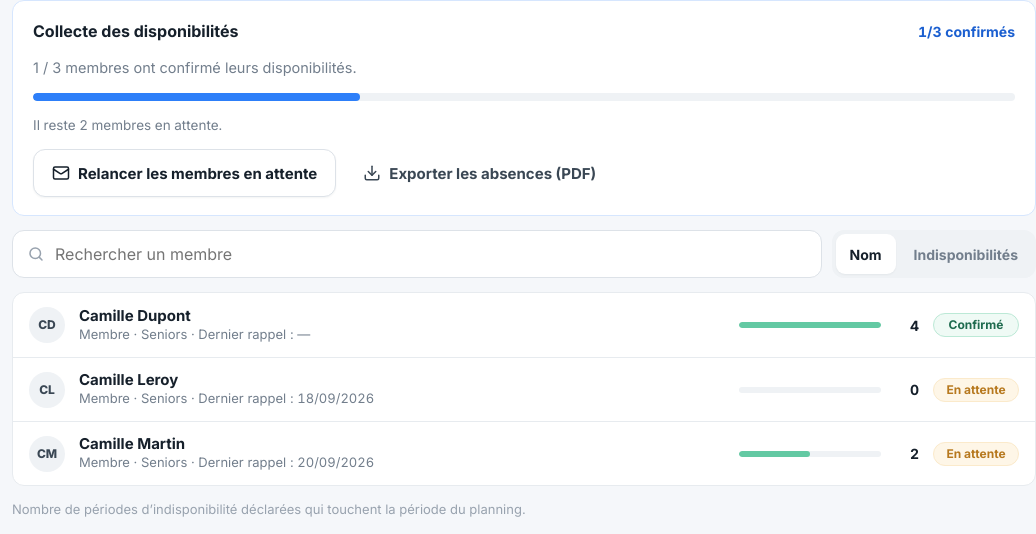
CollectionStatusPanel — search and sort › filters members by name, case-insensitively, and says when nobody matches
In the field labelled "Rechercher un membre": x=430, y=254 [53,231,806,277], type "mar"
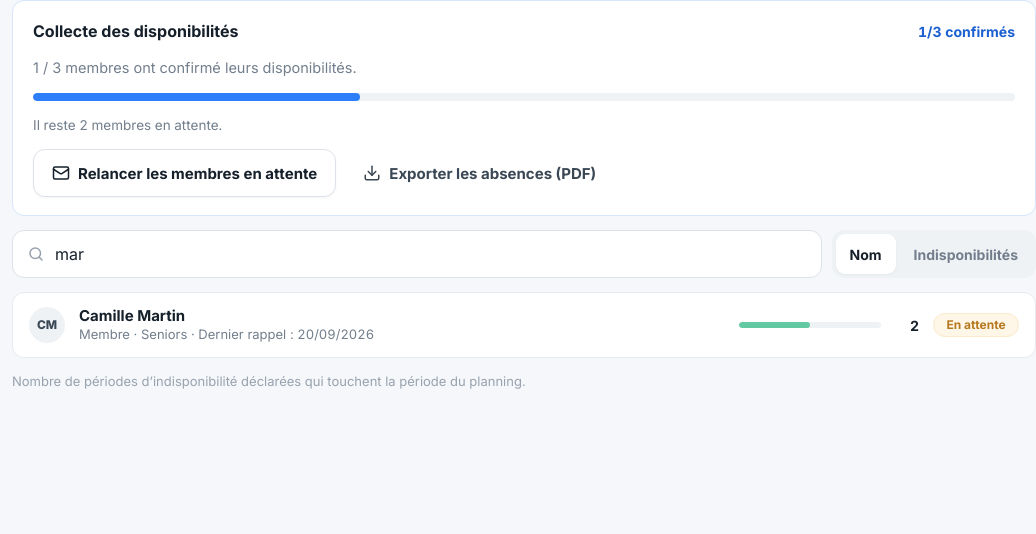
Replace the text in the field named "Rechercher un membre" with "zzz": x=430, y=254 [53,231,806,277]
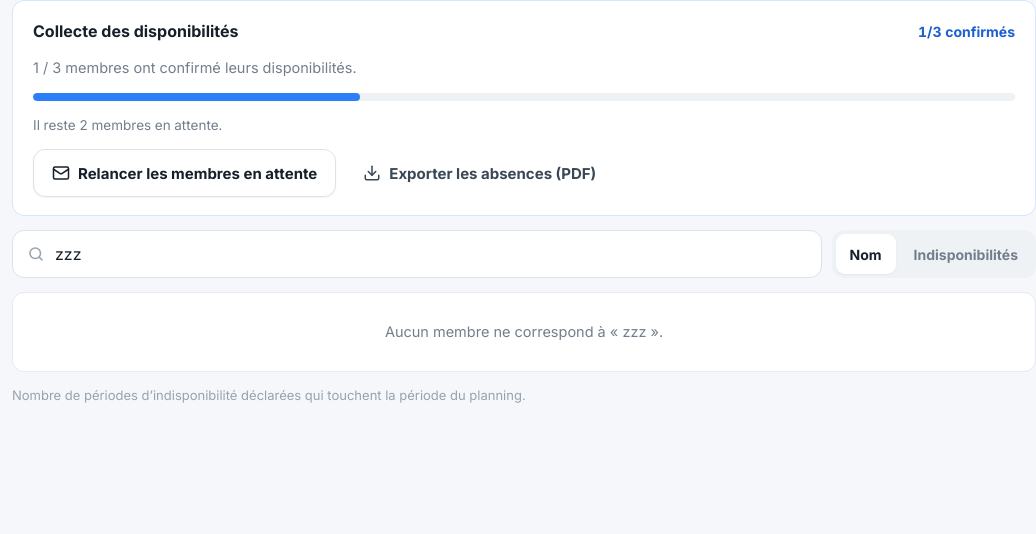
Expected: the list item "Aucun membre ne correspond à « zzz »." is shown, [385,323,663,340]
